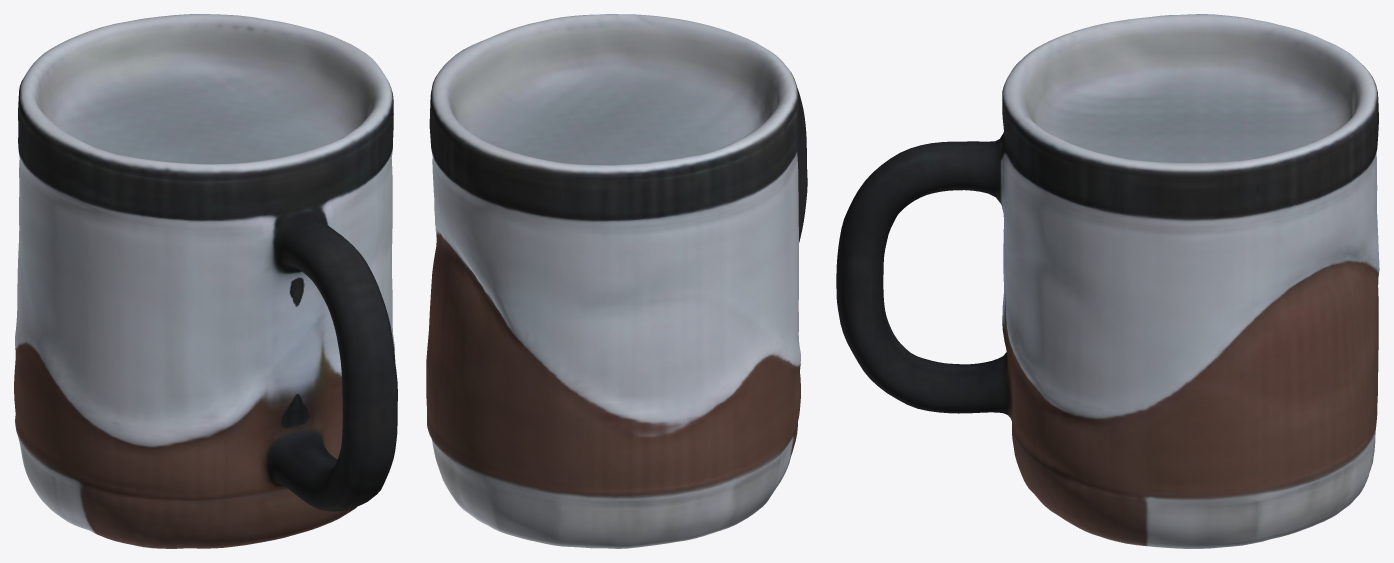
File: coffee_mug_preview_4.glb
3 renders of one model, left to right at view 1: azimuth 30°, elevation 25°; view 2: azimuth 150°, elevation 25°; view 3: azimuth 270°, elevation 25°, orthographic.
Visible parts, largest first — view 1: mesh; view 2: mesh; view 3: mesh.
Boxes of the visible parts, left/top/right/bottom form: mesh: left=14, top=14, right=397, bottom=548; mesh: left=426, top=14, right=807, bottom=548; mesh: left=836, top=14, right=1379, bottom=548.
Size of the model in its own units: 0.6903 by 0.7986 by 0.9991.
Materials: 1 (1 with a texture image).
